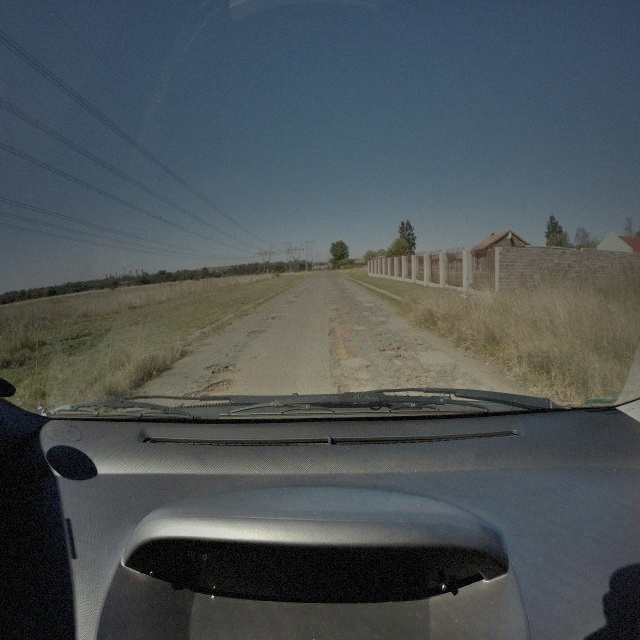pothole: (330, 342, 362, 361), (327, 325, 367, 337), (204, 378, 235, 393), (382, 345, 415, 359), (205, 360, 237, 374), (401, 331, 421, 347), (333, 380, 351, 396), (184, 387, 200, 400), (405, 379, 425, 389), (390, 357, 404, 370), (424, 367, 437, 378), (417, 377, 431, 385), (267, 314, 284, 320), (249, 328, 266, 334), (367, 317, 380, 324), (332, 308, 344, 315), (347, 312, 358, 318)
